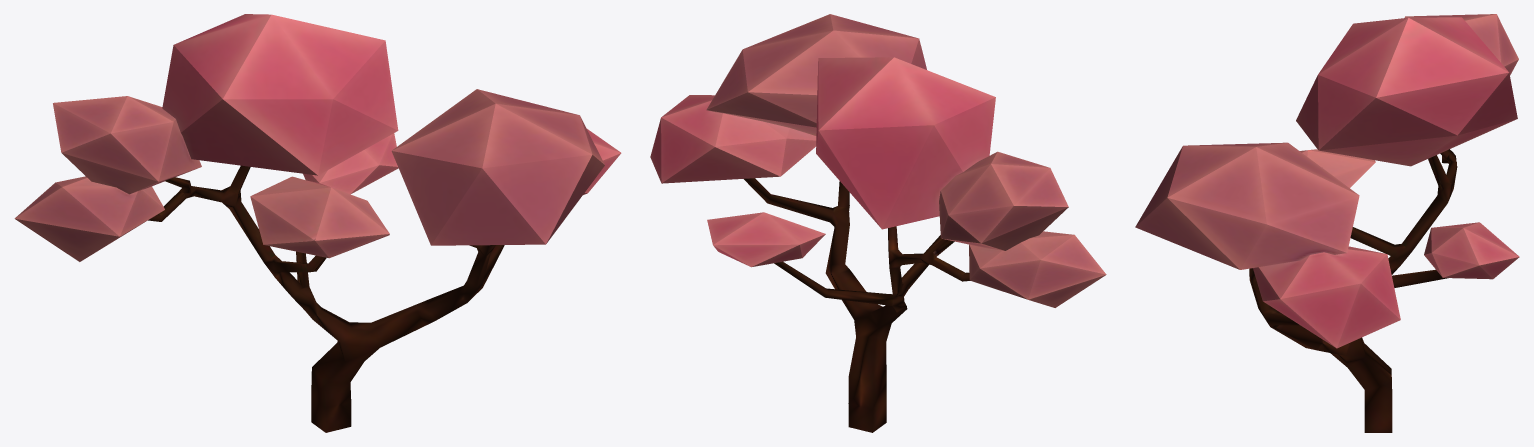
Rendered from Cherry_Blossom_Tree.glb.
3 renders of one model, left to right at view 1: azimuth 30°, elevation 25°; view 2: azimuth 150°, elevation 25°; view 3: azimuth 270°, elevation 25°, orthographic. The views are drawn at different scales.
Visible parts, largest first — view 1: Cherry_Blossom_Tree_Model_01; view 2: Cherry_Blossom_Tree_Model_01; view 3: Cherry_Blossom_Tree_Model_01.
Boxes of the visible parts, x1,y1,x2,y2 form: Cherry_Blossom_Tree_Model_01: (14,14,621,432); Cherry_Blossom_Tree_Model_01: (650,14,1106,432); Cherry_Blossom_Tree_Model_01: (1135,14,1519,432).
Bounding box in the file's own units: 5.14 × 3.76 × 3.37.
1 material, 1 textured.
